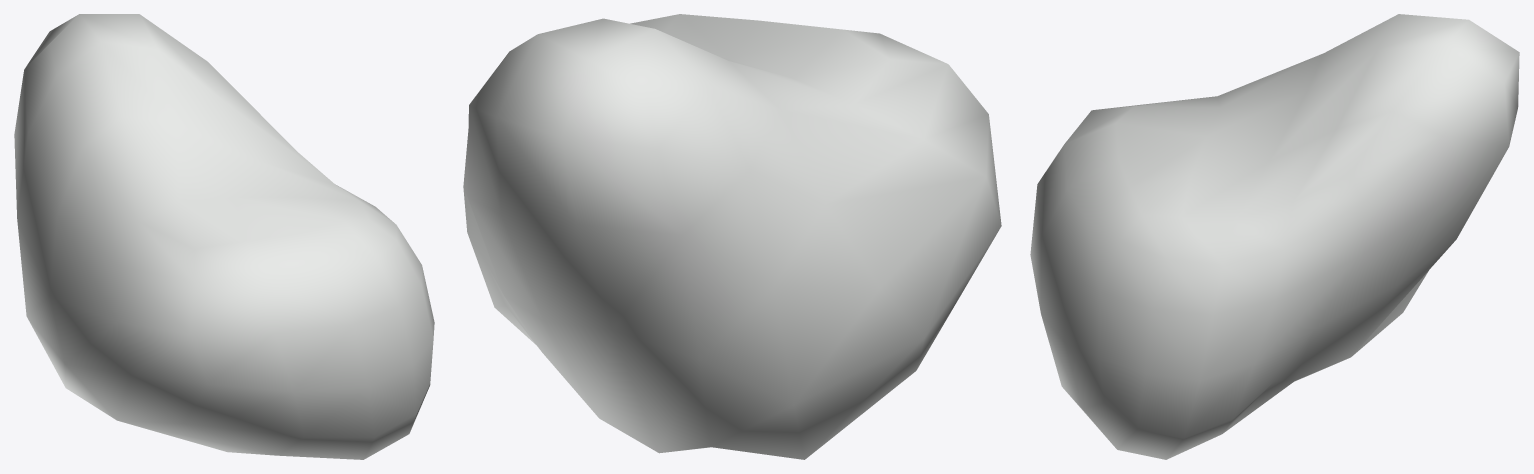
The model's file is Cloud 1.fbx.
3 views of the same model, side by side, from view 1: azimuth 30°, elevation 25°; view 2: azimuth 150°, elevation 25°; view 3: azimuth 270°, elevation 25° (orthographic). The views are drawn at different scales.
Visible parts, largest first — view 1: Group61412; view 2: Group61412; view 3: Group61412.
Part boxes in pixels (x1,y1,x2,y2): Group61412: [14, 14, 434, 459]; Group61412: [463, 14, 1001, 459]; Group61412: [1030, 14, 1519, 459].
Size of the model in its own units: 0.8792 by 0.9031 by 1.09.
1 material, 1 textured.
